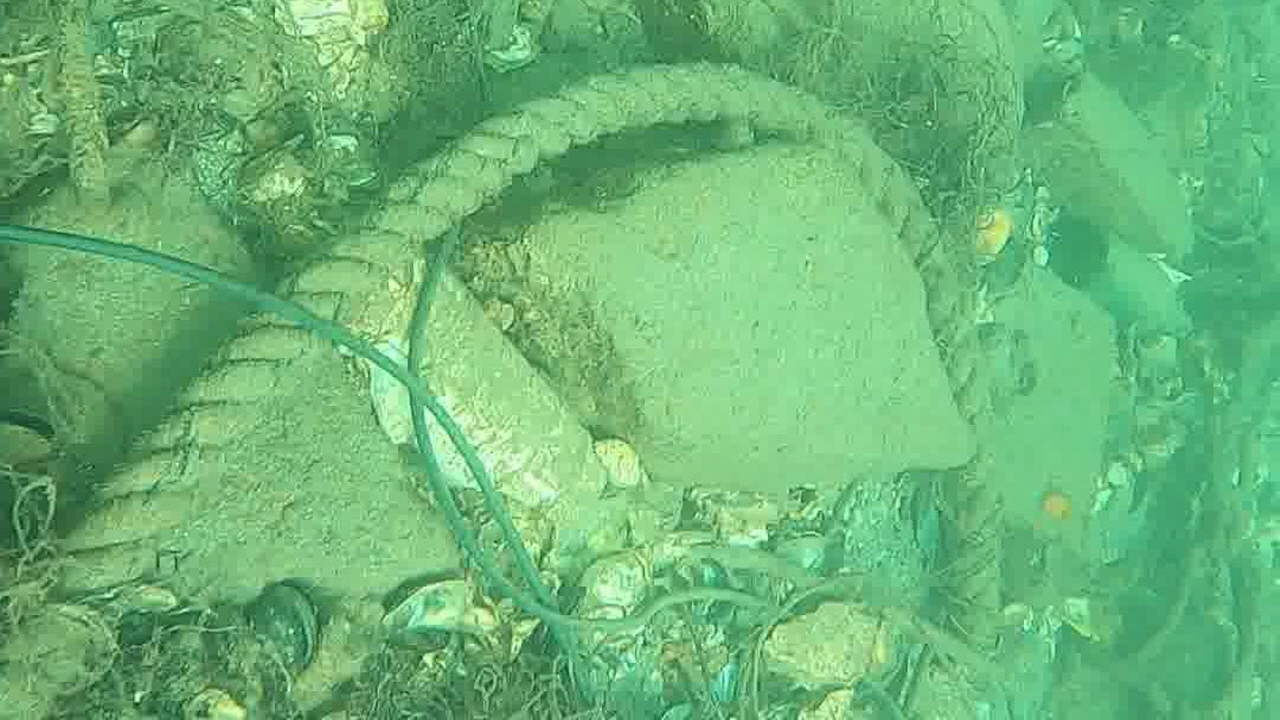rope: (0, 61, 1004, 720)
